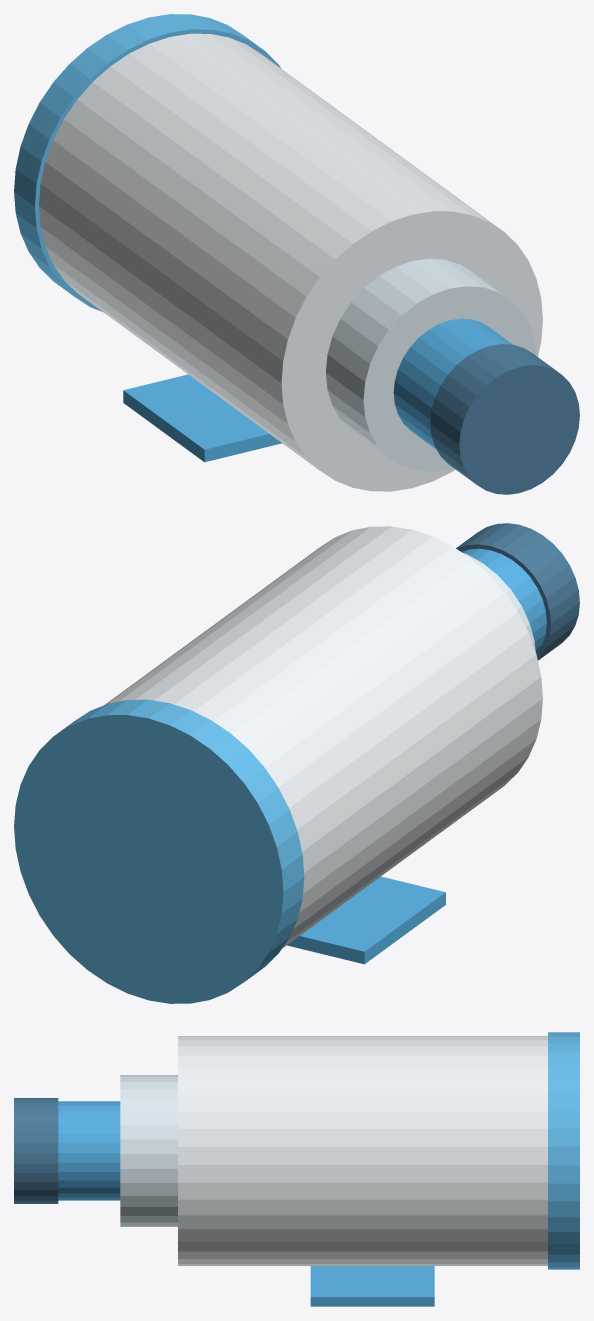
The model's file is water_bottle.glb.
3 renders of one model, top to bottom at view 1: azimuth 30°, elevation 25°; view 2: azimuth 150°, elevation 25°; view 3: azimuth 270°, elevation 25°, orthographic. The views are drawn at different scales.
Visible parts, largest first — view 1: water_bottle_0, water_bottle_2, water_bottle_4, water_bottle_1, water_bottle_5, water_bottle_3; view 2: water_bottle_0, water_bottle_1, water_bottle_5, water_bottle_4, water_bottle_3, water_bottle_2; view 3: water_bottle_0, water_bottle_2, water_bottle_1, water_bottle_3, water_bottle_5, water_bottle_4.
Part boxes in pixels (x1,y1,x2,y2): water_bottle_0: (39, 33, 542, 491); water_bottle_2: (326, 258, 536, 471); water_bottle_4: (430, 344, 579, 494); water_bottle_1: (14, 14, 281, 311); water_bottle_5: (123, 374, 281, 462); water_bottle_3: (393, 318, 512, 449); water_bottle_0: (104, 526, 542, 948); water_bottle_1: (14, 699, 304, 1003); water_bottle_5: (287, 876, 445, 964); water_bottle_4: (456, 523, 579, 660); water_bottle_3: (461, 548, 546, 653); water_bottle_2: (463, 553, 535, 651); water_bottle_0: (178, 1036, 547, 1265); water_bottle_2: (120, 1075, 177, 1226); water_bottle_1: (548, 1032, 579, 1269); water_bottle_3: (58, 1101, 120, 1200); water_bottle_5: (310, 1266, 434, 1306); water_bottle_4: (14, 1098, 58, 1203).
Bounding box in the file's own units: 0.134 × 0.142 × 0.3195.
